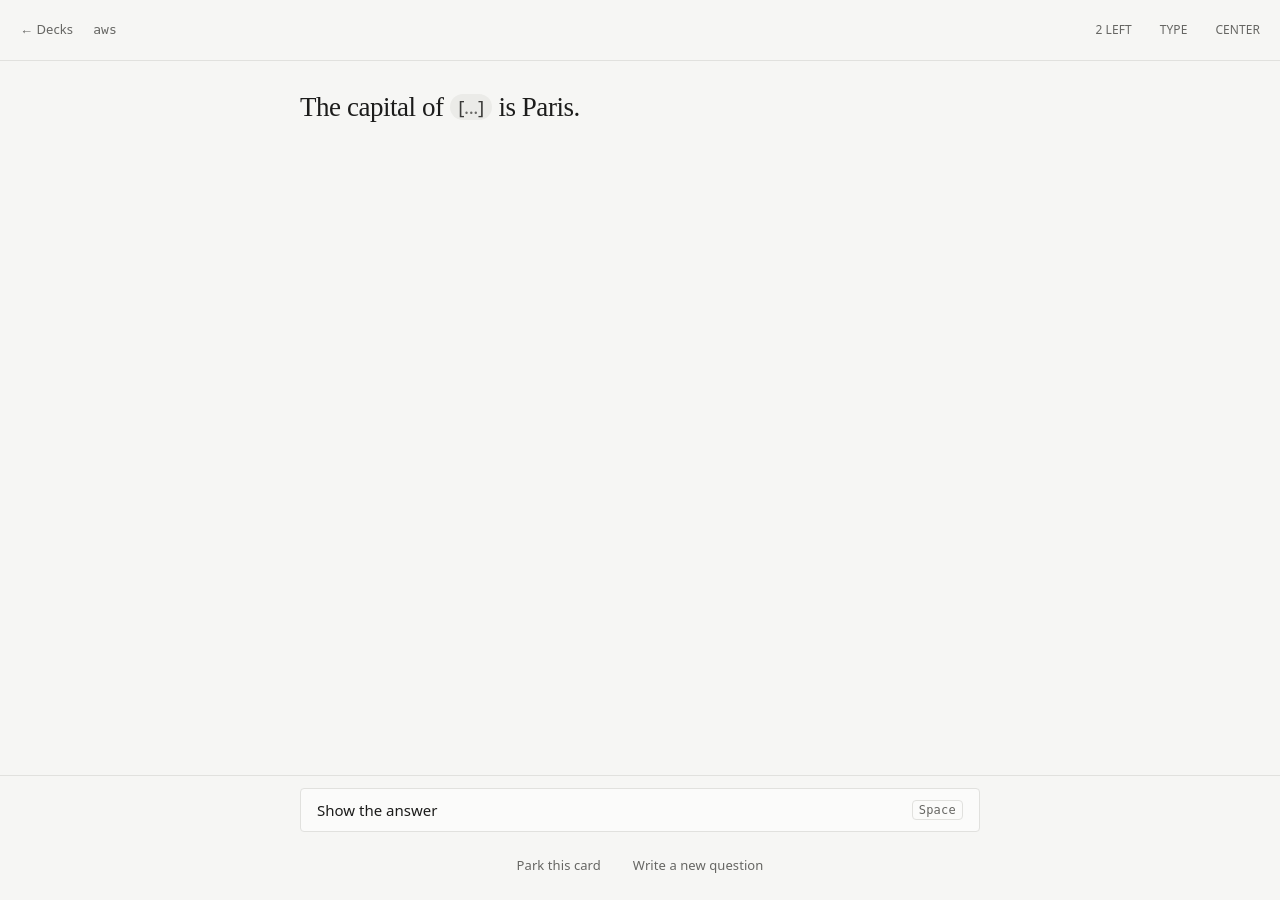
Scenario: ReviewSession on a cloze › drops every number from the queue when one is parked
This screenshot has width=1280, height=900.
Expected: the field with class "cm-content" is shown, x1=300 y1=92 x2=580 y2=122
Click the button "Park this card" at (559, 866), box x1=513 y1=844 x2=605 y2=888
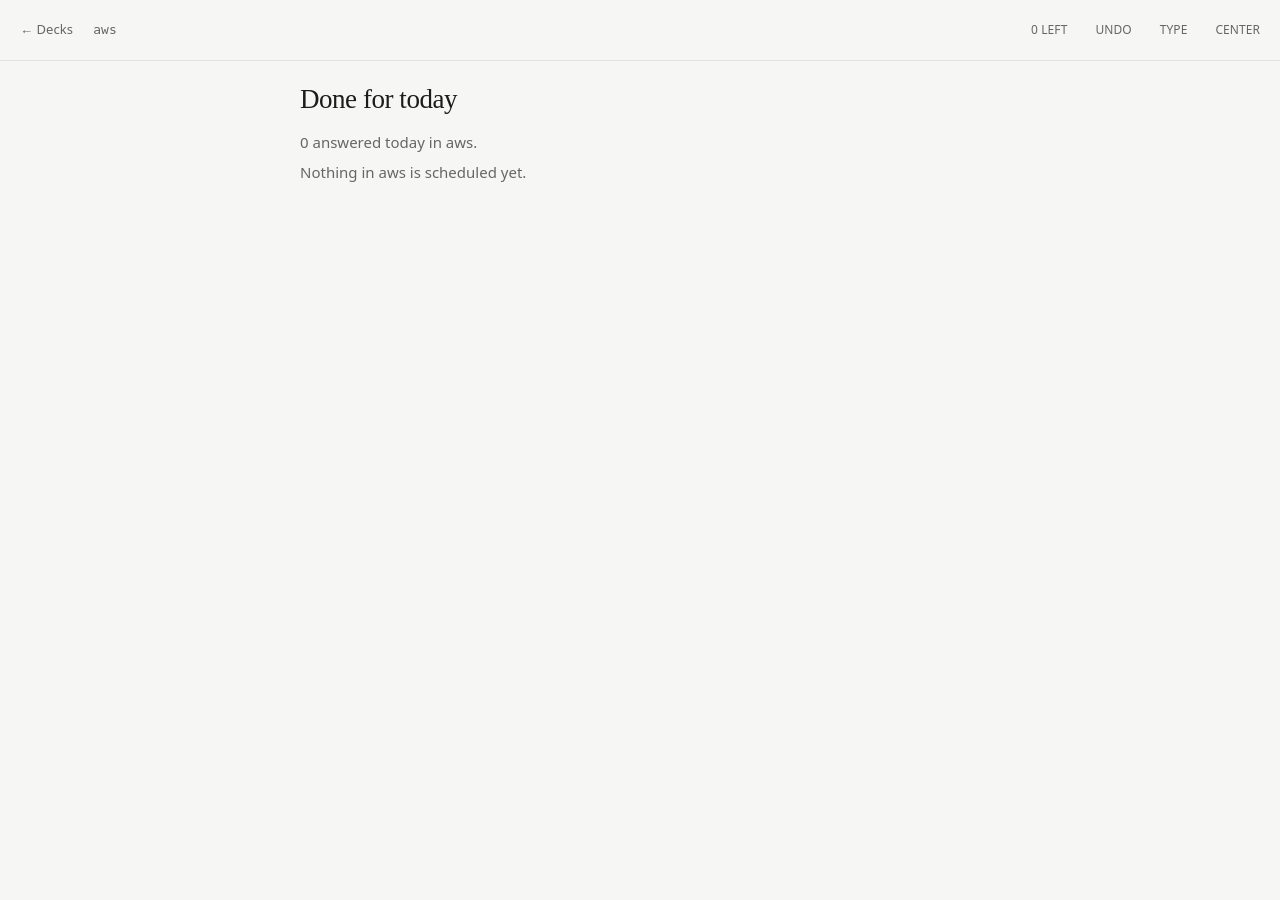
Expected: the element with test id "review-done" is shown, x1=300 y1=84 x2=526 y2=182
